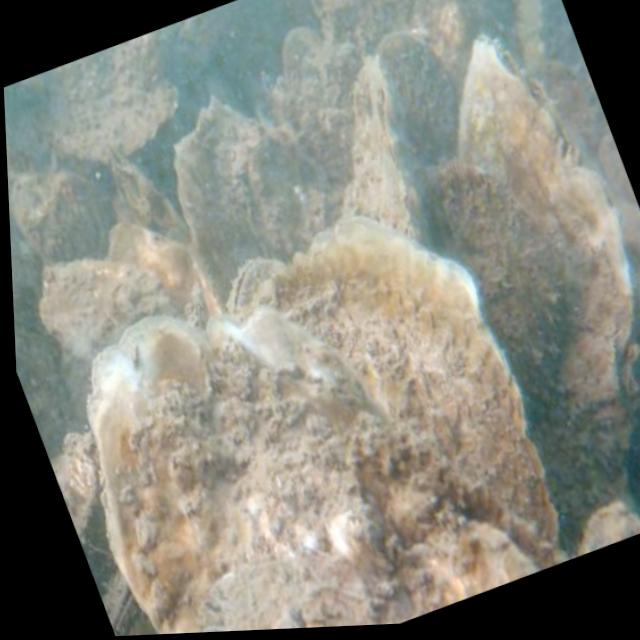Oyster-Closed: (458, 34, 640, 554), (110, 146, 190, 243), (225, 260, 287, 313), (101, 569, 142, 636)
Oyster-Indeterminate: (89, 306, 570, 634), (242, 216, 560, 540), (413, 158, 564, 441), (349, 32, 461, 238), (172, 97, 265, 316), (42, 260, 185, 364), (196, 552, 376, 633), (252, 127, 344, 262), (45, 78, 180, 162), (12, 172, 118, 265), (577, 504, 640, 557), (283, 26, 322, 80), (634, 405, 640, 503)
